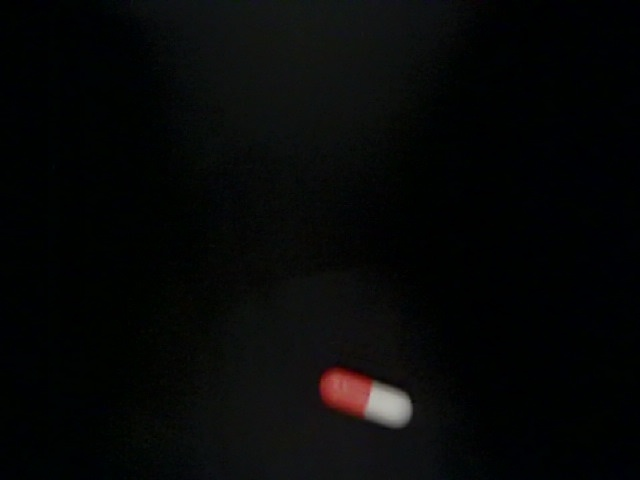YHLJ: (581, 288, 640, 386)
